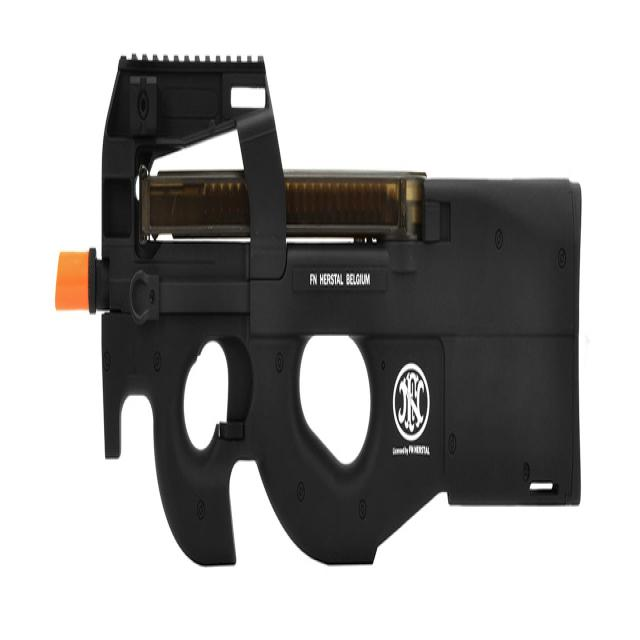SMG: (60, 55, 583, 569)
